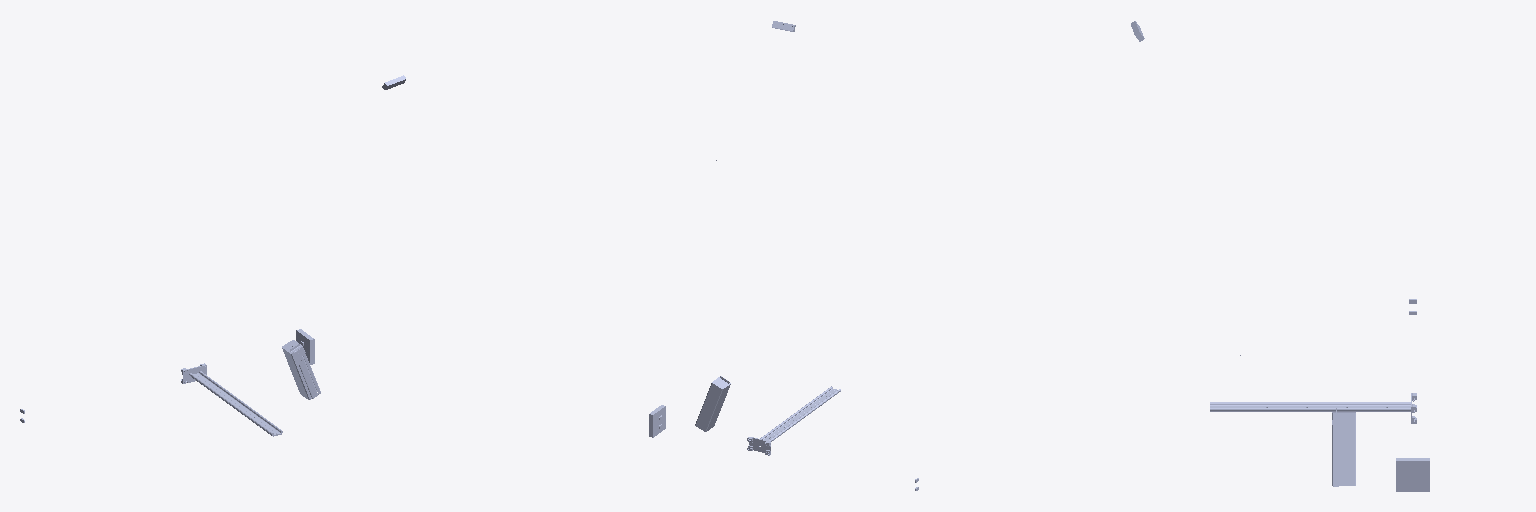
--- Render facts (derived) ---
The picture shows the robot from 3 angles, left to right: view 1: azimuth 30°, elevation 25°; view 2: azimuth 150°, elevation 25°; view 3: azimuth 270°, elevation 25°; orthographic projection.
Model robo_description with 21 links and 20 joints (2 revolute, 2 prismatic, 16 fixed), rooted at base_link, posed all joints at 0 but 1 set to mid-range because 0 is outside their limits (joint5 = 0.4665).
Visible links, largest first — view 1: link2, link5; view 2: link2, link5; view 3: link2, link5, base_link.
Link boxes in pixels (bbox=[...]): link2: bbox=[181, 363, 282, 436]; link5: bbox=[282, 340, 320, 399]; link2: bbox=[747, 386, 840, 455]; link5: bbox=[695, 376, 730, 431]; link2: bbox=[1210, 393, 1416, 423]; link5: bbox=[1332, 408, 1355, 486]; base_link: bbox=[1396, 299, 1429, 491].
Bounding box of the posed robot: 1.65 × 0.8974 × 1.53 m (x, y, z).
4 mesh visuals loaded from 6 distinct referenced files (4 binary STL); not drawn: 2 (reference not matched to a file when rendering).

The robot description file, URDF, robot "robo_description":
<?xml version="1.0" encoding="utf-8"?>
<!-- 25AUG2023 Changed the minimum limit of lJoint5 to 0.247 and max to 0.686 -->
<!-- This URDF was automatically created by SolidWorks to URDF Exporter! Originally created by Stephen Brawner ([email redacted]) 
     Commit Version: 1.6.0-4-g7f85cfe  Build Version: 1.6.7995.38578
     For more information, please see http://wiki.ros.org/sw_urdf_exporter -->
<robot
  name="robo_description">
  <link
    name="base_link">
    <inertial>
      <origin
        xyz="-5.13826234849775E-17 -1.63904738952765E-17 0.339473684210526"
        rpy="0 0 0" />
      <mass
        value="19" />
      <inertia
        ixx="2.34956140350877"
        ixy="1.11311423041845E-17"
        ixz="3.69215798456927E-16"
        iyy="2.34956140350877"
        iyz="-7.44985984223617E-17"
        izz="0.151666666666667" />
    </inertial>
    <visual>
      <origin
        xyz="0 0 0"
        rpy="0 0 0" />
      <geometry>
        <mesh
          filename="package://robo_description/meshes/base_link.STL" />
      </geometry>
      <material
        name="">
        <color
          rgba="0.792156862745098 0.819607843137255 0.933333333333333 1" />
      </material>
    </visual>
    <collision>
      <origin
        xyz="0 0 0"
        rpy="0 0 0" />
      <geometry>
        <mesh
          filename="package://robo_description/meshes/base_link.STL" />
      </geometry>
    </collision>
  </link>
  <link
    name="link2">
    <inertial>
      <origin
        xyz="-0.001261 -0.2858 0.14572"
        rpy="0 0 0" />
      <mass
        value="3.13280329013611" />
      <inertia
        ixx="0.0169430024052603"
        ixy="-0.00280446630124331"
        ixz="0.0223183329111622"
        iyy="0.162057682822749"
        iyz="0.000505061238040558"
        izz="0.161640952999751" />
    </inertial>
    <visual>
      <origin
        xyz="0 0 -1"
        rpy="0 0 0" />
      <geometry>
        <mesh
          filename="package://robo_description/meshes/link2.STL" />
      </geometry>
      <material
        name="">
        <color
          rgba="0.792156862745098 0.819607843137255 0.933333333333333 1" />
      </material>
    </visual>
    <collision>
      <origin
        xyz="0 0 0"
        rpy="0 0 0" />
      <geometry>
        <mesh
          filename="package://robo_description/meshes/link2.STL" />
      </geometry>
    </collision>
  </link>
  <joint
    name="joint2"
    type="prismatic">
    <origin
      xyz="0.0 0 1"
      rpy="0 0 0" />
    <parent
      link="base_link" />
    <child
      link="link2" />
    <axis
      xyz="0 0 1" />
    <limit
      lower="0"
      upper="1"
      effort="0"
      velocity="0" />
  </joint>
  <link
    name="link4">
    <inertial>
      <origin
        xyz="-0.000438554587764983 0.0620490502692163 -0.172885898172371"
        rpy="0 0 0" />
      <mass
        value="0.162146723185788" />
      <inertia
        ixx="0.00336616371871891"
        ixy="1.46811284877534E-06"
        ixz="-3.57096843523024E-06"
        iyy="0.00312866852492012"
        iyz="0.00048231220150353"
        izz="0.000338308018448651" />
    </inertial>
    <visual>
      <origin
        xyz="-0.4665 0 -0.790"
        rpy="0 0 0" />
      <geometry>
        <mesh
          filename="package://robo_description/meshes/link4.STL" />
      </geometry>
      <material
        name="">
        <color
          rgba="0.792156862745098 0.819607843137255 0.933333333333333 1" />
      </material>
    </visual>
    <collision>
      <origin
        xyz="0 0 0"
        rpy="0 0 0" />
      <geometry>
        <mesh
          filename="package://robo_description/meshes/link4.STL" />
      </geometry>
    </collision>
  </link>
  <joint
    name="joint4"
    type="revolute">
    <origin
      xyz="0.46904 0 -0.21"
      rpy="0 0 0" />
    <parent
      link="link2" />
    <child
      link="link4" />
    <axis
      xyz="0 0 1" />
    <limit
      lower="-2.9671"
      upper="2.9671"
      effort="0"
      velocity="0" />
  </joint>
  <link
    name="link3">
    <inertial>
      <origin
        xyz="-0.0832189655707039 -0.0894795892974461 -0.00179630042130147"
        rpy="0 0 0" />
      <mass
        value="1.71811977068641" />
      <inertia
        ixx="0.00948440583507882"
        ixy="-0.00159429497921182"
        ixz="0.00308193362516688"
        iyy="0.035537875179704"
        iyz="0.000648421421055908"
        izz="0.0305779645247813" />
    </inertial>
    <visual>
      <origin
        xyz="-0.468545 -0.078 -0.43528"
        rpy="0 0 0" />
      <geometry>
        <mesh
          filename="package://robo_description/meshes/link3.STL" />
      </geometry>
      <material
        name="">
        <color
          rgba="0.792156862745098 0.819607843137255 0.933333333333333 1" />
      </material>
    </visual>
    <collision>
      <origin
        xyz="0 0 0"
        rpy="0 0 0" />
      <geometry>
        <mesh
          filename="package://robo_description/meshes/link3.STL" />
      </geometry>
    </collision>
  </link>
  <joint
    name="joint3"
    type="revolute">
    <origin
      xyz="0.0 0.077824 -0.35472"
      rpy="0 0 0" />
    <parent
      link="link4" />
    <child
      link="link3" />
    <axis
      xyz="0 1 0" />
    <limit
      lower="-1.5708"
      upper="1.5708"
      effort="0"
      velocity="0" />
  </joint>
  <link
    name="yanthra_link">
    <inertial>
      <origin
        xyz="-0.0832189655707036 -0.0114795892974462 -0.00179630042130124"
        rpy="0 0 0" />
      <mass
        value="1.71811977068641" />
      <inertia
        ixx="0.00948440583507882"
        ixy="-0.00159429497921182"
        ixz="0.0030819336251669"
        iyy="0.035537875179704"
        iyz="0.000648421421055907"
        izz="0.0305779645247813" />
    </inertial>
    <visual>
      <origin
        xyz="0 0 0"
        rpy="0 0 0" />
      <geometry>
        <box size="0.001 0.001 0.001"/>
      </geometry>
      <material
        name="">
        <color
          rgba="0.792156862745098 0.819607843137255 0.933333333333333 1" />
      </material>
    </visual>
    <collision>
      <origin
        xyz="0 0 0"
        rpy="0 0 0" />
      <geometry>
        <box size="0.001 0.001 0.001"/>
      </geometry>
    </collision>
  </link>
  <joint
    name="yanthra_joint"
    type="fixed">
    <origin
      xyz="0 -0.078 0"
      rpy="0 0 0" />
    <parent
      link="link3" />
    <child
      link="yanthra_link" />
    <axis
      xyz="0 0 0" />
  </joint>
  <link
    name="link5_origin">
    <inertial>
      <origin
        xyz="-0.00874999999999998 0.0375 -0.00507843424240889"
        rpy="0 0 0" />
      <mass
        value="0.0438088883035136" />
      <inertia
        ixx="3.24913884800222E-05"
        ixy="1.33063310958086E-21"
        ixz="-8.470329472543E-22"
        iyy="3.99574478810853E-06"
        iyz="-3.38875204913906E-21"
        izz="3.07317223657389E-05" />
    </inertial>
    <visual>
      <origin
        xyz="0 0 0"
        rpy="0 0 0" />
      <geometry>
        <box size="0.001 0.001 0.001"/>
      </geometry>
      <material
        name="">
        <color
          rgba="0.792156862745098 0.819607843137255 0.933333333333333 1" />
      </material>
    </visual>
    <collision>
      <origin
        xyz="0 0 0"
        rpy="0 0 0" />
      <geometry>
        <box size="0.001 0.001 0.001"/>
      </geometry>
    </collision>
  </link>
  <joint
    name="link5_origin_joint"
    type="fixed">
    <origin
      xyz="0 0 0.0"
      rpy="0 0 0" />
    <parent	
      link="yanthra_link" />
    <child
      link="link5_origin" />
    <axis
      xyz="0 0 0" />
  </joint>
  <link
    name="link5">
    <inertial>
      <origin
        xyz="0.108132413871145 2.08242781028485E-06 0.00569147154470495"
        rpy="0 0 0" />
      <mass
        value="0.277404400359573" />
      <inertia
        ixx="0.00021628976171093"
        ixy="1.27900715148446E-06"
        ixz="-0.000135093187106687"
        iyy="0.00359200319167061"
        iyz="-8.36237914028336E-08"
        izz="0.00358633509004247" />
    </inertial>
    <visual>
      <origin
        xyz="-0.715545 0 -0.43528"
        rpy="0 0 0" />
      <geometry>
        <mesh
          filename="package://robo_description/meshes/link5.STL" />
      </geometry>
      <material
        name="">
        <color
          rgba="0.792156862745098 0.819607843137255 0.933333333333333 1" />
      </material>
    </visual>
    <collision>
      <origin
        xyz="0 0 0"
        rpy="0 0 0" />
      <geometry>
        <mesh
          filename="package://robo_description/meshes/link5.STL" />
      </geometry>
    </collision>
  </link>
  <joint
    name="joint5"
    type="prismatic">
    <origin
      xyz="0.0 0 0"
      rpy="0 0 0" />
    <parent
      link="link5_origin" />
    <child
      link="link5" />
    <axis
      xyz="1 0 0" />
    <limit
      lower="0.247"
      upper="0.686"
      effort="0"
      velocity="0" />
  </joint>
  <link
    name="ee_link">
    <inertial>
      <origin
        xyz="-0.00874999999999998 0.0375 -0.00507843424240889"
        rpy="0 0 0" />
      <mass
        value="0.0438088883035136" />
      <inertia
        ixx="3.24913884800222E-05"
        ixy="1.33063310958086E-21"
        ixz="-8.470329472543E-22"
        iyy="3.99574478810853E-06"
        iyz="-3.38875204913906E-21"
        izz="3.07317223657389E-05" />
    </inertial>
    <visual>
      <origin
        xyz="0 0 0"
        rpy="0 0 0" />
      <geometry>
        <box size="0.001 0.001 0.001"/>
      </geometry>
      <material
        name="">
        <color
          rgba="0.792156862745098 0.819607843137255 0.933333333333333 1" />
      </material>
    </visual>
    <collision>
      <origin
        xyz="0 0 0"
        rpy="0 0 0" />
      <geometry>
        <box size="0.001 0.001 0.001"/>
      </geometry>
    </collision>
  </link>
  <joint
    name="ee_joint"
    type="fixed">
    <origin
      xyz="-0.085 0 0"
      rpy="0 0 0" />
    <parent	
      link="link5" />
    <child
      link="ee_link" />
    <axis
      xyz="0 0 0" />
  </joint>
  <link
    name="aruco_marker_link">
    <inertial>
      <origin
        xyz="-0.00874999999999998 0.0375 -0.00507843424240889"
        rpy="0 0 0" />
      <mass
        value="0.0438088883035136" />
      <inertia
        ixx="3.24913884800222E-05"
        ixy="1.33063310958086E-21"
        ixz="-8.470329472543E-22"
        iyy="3.99574478810853E-06"
        iyz="-3.38875204913906E-21"
        izz="3.07317223657389E-05" />
    </inertial>
    <visual>
      <origin
        xyz="0 0 0"
        rpy="0 0 0" />
      <geometry>
        <box size="0.001 0.001 0.001"/>
      </geometry>
      <material
        name="">
        <color
          rgba="0.792156862745098 0.819607843137255 0.933333333333333 1" />
      </material>
    </visual>
    <collision>
      <origin
        xyz="0 0 0"
        rpy="0 0 0" />
      <geometry>
        <box size="0.001 0.001 0.001"/>
      </geometry>
    </collision>
  </link>
  <joint
    name="aruco_joint"
    type="fixed">
    <origin
      xyz="0.0 0 0.08"
      rpy="0 0 0" />
    <parent	
      link="ee_link" />
    <child
      link="aruco_marker_link" />
    <axis
      xyz="0 0 0" />
  </joint>
  <link
    name="aruco_link_1">
    <inertial>
      <origin
        xyz="-0.00874999999999998 0.0375 -0.00507843424240889"
        rpy="0 0 0" />
      <mass
        value="0.0438088883035136" />
      <inertia
        ixx="3.24913884800222E-05"
        ixy="1.33063310958086E-21"
        ixz="-8.470329472543E-22"
        iyy="3.99574478810853E-06"
        iyz="-3.38875204913906E-21"
        izz="3.07317223657389E-05" />
    </inertial>
    <visual>
      <origin
        xyz="0 0 0"
        rpy="0 0 0" />
      <geometry>
        <box size="0.001 0.001 0.001"/>
      </geometry>
      <material
        name="">
        <color
          rgba="0.792156862745098 0.819607843137255 0.933333333333333 1" />
      </material>
    </visual>
    <collision>
      <origin
        xyz="0 0 0"
        rpy="0 0 0" />
      <geometry>
        <box size="0.001 0.001 0.001"/>
      </geometry>
    </collision>
  </link>
  <joint
    name="aruco_joint_1"
    type="fixed">
    <origin
      xyz="0.0 0.04 0.04"
      rpy="0 0 0" />
    <parent	
      link="aruco_marker_link" />
    <child
      link="aruco_link_1" />
    <axis
      xyz="0 0 0" />
  </joint>
  <link
    name="aruco_link_2">
    <inertial>
      <origin
        xyz="-0.00874999999999998 0.0375 -0.00507843424240889"
        rpy="0 0 0" />
      <mass
        value="0.0438088883035136" />
      <inertia
        ixx="3.24913884800222E-05"
        ixy="1.33063310958086E-21"
        ixz="-8.470329472543E-22"
        iyy="3.99574478810853E-06"
        iyz="-3.38875204913906E-21"
        izz="3.07317223657389E-05" />
    </inertial>
    <visual>
      <origin
        xyz="0 0 0"
        rpy="0 0 0" />
      <geometry>
        <box size="0.001 0.001 0.001"/>
      </geometry>
      <material
        name="">
        <color
          rgba="0.792156862745098 0.819607843137255 0.933333333333333 1" />
      </material>
    </visual>
    <collision>
      <origin
        xyz="0 0 0"
        rpy="0 0 0" />
      <geometry>
        <box size="0.001 0.001 0.001"/>
      </geometry>
    </collision>
  </link>
  <joint
    name="aruco_joint_2"
    type="fixed">
    <origin
      xyz="0.0 -0.04 0.04"
      rpy="0 0 0" />
    <parent	
      link="aruco_marker_link" />
    <child
      link="aruco_link_2" />
    <axis
      xyz="0 0 0" />
  </joint>
  <link
    name="aruco_link_3">
    <inertial>
      <origin
        xyz="-0.00874999999999998 0.0375 -0.00507843424240889"
        rpy="0 0 0" />
      <mass
        value="0.0438088883035136" />
      <inertia
        ixx="3.24913884800222E-05"
        ixy="1.33063310958086E-21"
        ixz="-8.470329472543E-22"
        iyy="3.99574478810853E-06"
        iyz="-3.38875204913906E-21"
        izz="3.07317223657389E-05" />
    </inertial>
    <visual>
      <origin
        xyz="0 0 0"
        rpy="0 0 0" />
      <geometry>
        <box size="0.001 0.001 0.001"/>
      </geometry>
      <material
        name="">
        <color
          rgba="0.792156862745098 0.819607843137255 0.933333333333333 1" />
      </material>
    </visual>
    <collision>
      <origin
        xyz="0 0 0"
        rpy="0 0 0" />
      <geometry>
        <box size="0.001 0.001 0.001"/>
      </geometry>
    </collision>
  </link>
  <joint
    name="aruco_joint_3"
    type="fixed">
    <origin
      xyz="0.0 0.04 -0.04"
      rpy="0 0 0" />
    <parent	
      link="aruco_marker_link" />
    <child
      link="aruco_link_3" />
    <axis
      xyz="0 0 0" />
  </joint>
  <link
    name="aruco_link_4">
    <inertial>
      <origin
        xyz="-0.00874999999999998 0.0375 -0.00507843424240889"
        rpy="0 0 0" />
      <mass
        value="0.0438088883035136" />
      <inertia
        ixx="3.24913884800222E-05"
        ixy="1.33063310958086E-21"
        ixz="-8.470329472543E-22"
        iyy="3.99574478810853E-06"
        iyz="-3.38875204913906E-21"
        izz="3.07317223657389E-05" />
    </inertial>
    <visual>
      <origin
        xyz="0 0 0"
        rpy="0 0 0" />
      <geometry>
        <box size="0.001 0.001 0.001"/>
      </geometry>
      <material
        name="">
        <color
          rgba="0.792156862745098 0.819607843137255 0.933333333333333 1" />
      </material>
    </visual>
    <collision>
      <origin
        xyz="0 0 0"
        rpy="0 0 0" />
      <geometry>
        <box size="0.001 0.001 0.001"/>
      </geometry>
    </collision>
  </link>
  <joint
    name="aruco_joint_4"
    type="fixed">
    <origin
      xyz="0.0 -0.04 -0.04"
      rpy="0 0 0" />
    <parent	
      link="aruco_marker_link" />
    <child
      link="aruco_link_4" />
    <axis
      xyz="0 0 0" />
  </joint>
  <link
    name="link7">
    <inertial>
      <origin
        xyz="-0.00129487747822488 -0.0114795892973884 0.11996423535158"
        rpy="0 0 0" />
      <mass
        value="1.71811977068641" />
      <inertia
        ixx="0.0113386071435481"
        ixy="-0.00171490439294498"
        ixz="-0.00672100859249017"
        iyy="0.0355378751797041"
        iyz="-0.0001460470577602"
        izz="0.0287237632163119" />
    </inertial>
    <visual>
      <origin
        xyz="0 0 0"
        rpy="0 0 0" />
      <geometry>
        <box size="0.001 0.001 0.001"/>
      </geometry>
      <material
        name="">
        <color
          rgba="0.792156862745098 0.819607843137255 0.933333333333333 1" />
      </material>
    </visual>
    <collision>
      <origin
        xyz="0 0 0"
        rpy="0 0 0" />
      <geometry>
        <box size="0.001 0.001 0.001"/>
      </geometry>
    </collision>
  </link>
  <joint
    name="joint7"
    type="fixed">
    <origin
      xyz="0.46679 -0.08449 0.88441"
      rpy="0 0.959931 -1.5708" />
    <parent
      link="base_link"/>
    <child
      link="link7"/>
    <axis
      xyz="0 0 0" />
  </joint>
  <link
    name="camera_mount_link">
    <inertial>
      <origin
        xyz="-0.00129487747822488 -0.0114795892973883 0.11996423535158"
        rpy="0 0 0" />
      <mass
        value="1.71811977068641" />
      <inertia
        ixx="0.0113386071435481"
        ixy="-0.00171490439294498"
        ixz="-0.00672100859249018"
        iyy="0.0355378751797041"
        iyz="-0.000146047057760202"
        izz="0.0287237632163119" />
    </inertial>
    <visual>
      <origin
        xyz="0 0 0"
        rpy="0 0 0" />
      <geometry>
        <box size="0.001 0.001 0.001"/>
      </geometry>
      <material
        name="">
        <color
          rgba="0.792156862745098 0.819607843137255 0.933333333333333 1" />
      </material>
    </visual>
    <collision>
      <origin
        xyz="0 0 0"
        rpy="0 0 0" />
      <geometry>
        <box size="0.001 0.001 0.001"/>
      </geometry>
    </collision>
  </link>
     <!--Realsense Camera depth is 20 mm from back to glass, But the depth start point(GROUND ZERO REFERENCE i.e depth is Zero) is 1.1 mm behind glass-->
     <!--Camera thickness-Zero Ref +Plate thick=20-1.1+2 = 20.09 mm -->
     <!-- xyz="0.0209 -0.0375 0"-->
  <joint
    name="camera_mount_joint"
    type="fixed">
    <origin
      xyz="0.02090 -0.0375 0"
      rpy="-1.5708 0 -1.5708" />
    <parent
      link="link7" />
    <child
      link="camera_mount_link" />
    <axis
      xyz="0 0 0" />
  </joint>
  <link
    name="virtual_cam_link">
    <inertial>
      <origin
        xyz="-0.00874999999999998 0.0375 -0.00507843424240889"
        rpy="0 0 0" />
      <mass
        value="0.0438088883035136" />
      <inertia
        ixx="3.24913884800222E-05"
        ixy="1.33063310958086E-21"
        ixz="-8.470329472543E-22"
        iyy="3.99574478810853E-06"
        iyz="-3.38875204913906E-21"
        izz="3.07317223657389E-05" />
    </inertial>
    <visual>
      <origin
        xyz="0 0 0"
        rpy="0 0 0" />
      <geometry>
        <box size="0.001 0.001 0.001"/>
      </geometry>
      <material
        name="">
        <color
          rgba="0.792156862745098 0.819607843137255 0.933333333333333 1" />
      </material>
    </visual>
    <collision>
      <origin
        xyz="0 0 0"
        rpy="0 0 0" />
      <geometry>
        <box size="0.001 0.001 0.001"/>
      </geometry>
    </collision>
  </link>
  <joint
    name="virtual_cam_link_joint"
    type="fixed">
    <origin
      xyz="0 0 0"
      rpy="0 0 0" />
    <parent	
      link="camera_mount_link" />
    <child
      link="virtual_cam_link" />
    <axis
      xyz="0 0 0" />
  </joint>

  <link
    name="camera_link">
    <inertial>
      <origin
        xyz="-0.00874999999999998 0.0375 -0.00507843424240889"
        rpy="0 0 0" />
      <mass
        value="0.0438088883035136" />
      <inertia
        ixx="3.24913884800222E-05"
        ixy="1.33063310958086E-21"
        ixz="-8.470329472543E-22"
        iyy="3.99574478810853E-06"
        iyz="-3.38875204913906E-21"
        izz="3.07317223657389E-05" />
    </inertial>
    <visual>
      <origin
        xyz="-0.03768 -0.425 -0.175"
        rpy="0 -2.04 -1.5708" />
      <geometry>
        <mesh
          filename="package://robo_description/meshes/camera_link.STL" />
      </geometry>
      <material
        name="">
        <color
          rgba="0.792156862745098 0.819607843137255 0.933333333333333 1" />
      </material>
    </visual>
    <collision>
      <origin
        xyz="0 0 0"
        rpy="0 0 0" />
      <geometry>
        <mesh
          filename="package://robo_description/meshes/camera_link.STL" />
      </geometry>
    </collision>
  </link>
  <joint
    name="camera_link_joint"
    type="fixed">
    <origin
      xyz="-0.0457741 0.00664737 -0.0133391"
      rpy="0.0624949 -0.116739 -0.103072" />
    <parent
      link="virtual_cam_link" />
    <child
      link="camera_link" />
    <axis
      xyz="0 0 0" />
  </joint>

  <link name="camera_depth_frame">

    <visual>

    <origin xyz="0 0 0" rpy="0 0 0" />

      <geometry>

        <box size="0.001 0.001 0.001"/>

      </geometry>

    </visual>

  </link>

  <joint name="camera_depth_frame_joint" type="fixed">

    <origin rpy="0 0 0" xyz="0 0 0"/>

    <parent link="camera_link"/>

    <child link="camera_depth_frame"/>

  </joint>

  <link name="camera_depth_optical_frame">

    <visual>

    <origin xyz="0 0 0" rpy="0 0 0" />

      <geometry>

        <box size="0.001 0.001 0.001"/>

      </geometry>

    </visual>

  </link>

  <joint name="camera_depth_optical_frame_joint" type="fixed">

   <origin rpy="0 0 0" xyz="0 0 0"/>

   <parent link="camera_depth_frame"/>

   <child link="camera_depth_optical_frame"/>

  </joint>

  <link name="camera_color_frame">

    <visual>

    <origin xyz="0 0 0" rpy="0 0 0" />

      <geometry>

        <box size="0.001 0.001 0.001"/>

      </geometry>

    </visual>

  </link>

  <joint name="camera_color_frame_joint" type="fixed">

    <origin rpy="0 0 0" xyz="0 0 0"/>

    <parent link="camera_link"/>

    <child link="camera_color_frame"/>

  </joint>

  <link name="camera_color_optical_frame">

    <visual>

    <origin xyz="0 0 0" rpy="0 0 0" />

      <geometry>

        <box size="0.001 0.001 0.001"/>

      </geometry>

    </visual>

  </link>

  <joint name="camera_color_optical_frame_joint" type="fixed">

   <origin rpy="0 0 0" xyz="0 0 0"/>

   <parent link="camera_color_frame"/>

   <child link="camera_color_optical_frame"/>

  </joint>
  <gazebo reference="stand">

    <material>Gazebo/Grey</material>

  </gazebo>

  <gazebo reference="link3">

    <material>Gazebo/Green</material>

  </gazebo>

  <gazebo reference="link4">

    <material>Gazebo/Red</material>

  </gazebo>

  <gazebo reference="link5">

    <material>Gazebo/Green</material>

  </gazebo>

  <gazebo reference="link9">

    <material>Gazebo/Red</material>

  </gazebo>

  <gazebo reference="link6">

    <material>Gazebo/White</material>

  </gazebo>

  <transmission name="tran1">

    <type>transmission_interface/SimpleTransmission</type>

    <joint name="joint3">

      <hardwareInterface>hardware_interface/PositionJointInterface</hardwareInterface>

    </joint>

    <actuator name="motor1">

      <hardwareInterface>hardware_interface/PositionJointInterface</hardwareInterface>

      <mechanicalReduction>1</mechanicalReduction>

    </actuator>

  </transmission>

  <transmission name="tran1">

    <type>transmission_interface/SimpleTransmission</type>

    <joint name="joint4">

      <hardwareInterface>hardware_interface/PositionJointInterface</hardwareInterface>

    </joint>

    <actuator name="motor1">

      <hardwareInterface>hardware_interface/PositionJointInterface</hardwareInterface>

      <mechanicalReduction>1</mechanicalReduction>

    </actuator>

  </transmission>

  <transmission name="tran1">

    <type>transmission_interface/SimpleTransmission</type>

    <joint name="joint5">

      <hardwareInterface>hardware_interface/PositionJointInterface</hardwareInterface>

    </joint>

    <actuator name="motor1">

      <hardwareInterface>hardware_interface/PositionJointInterface</hardwareInterface>

      <mechanicalReduction>1</mechanicalReduction>

    </actuator>

  </transmission>

  <gazebo>

    <plugin filename="libgazebo_ros_control.so" name="gazebo_ros_control">

      <robotNameSpace>/arm_controller</robotNameSpace>

    </plugin>

  </gazebo>

</robot>
